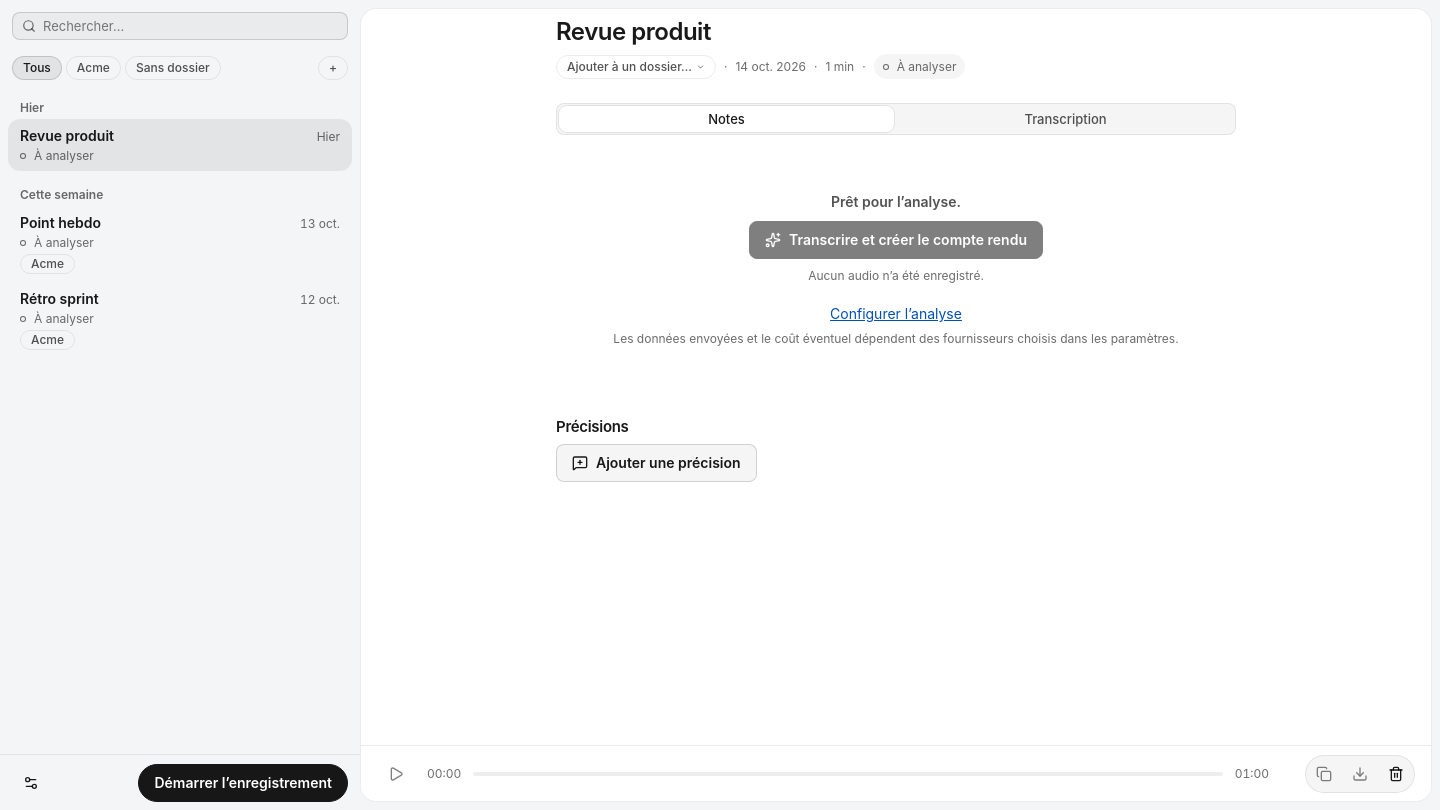
Test: After a deletion › selects the previous one when the last meeting goes
Click the option "Rétro sprint 12 oct. À analyser Acme" at (59, 298), box [8, 282, 352, 358]
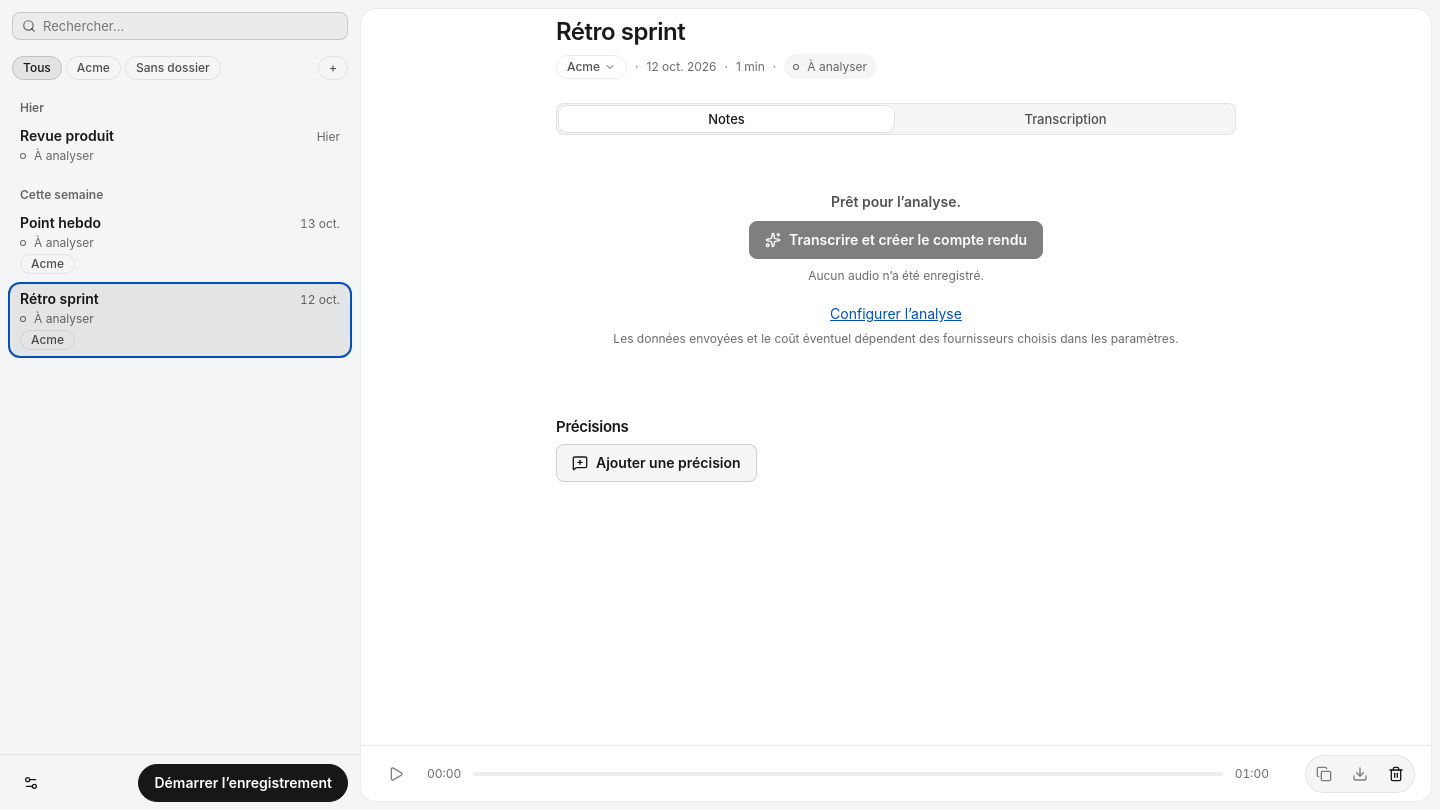
Click the button named "Supprimer la réunion" at (1396, 774), box [1380, 758, 1412, 790]
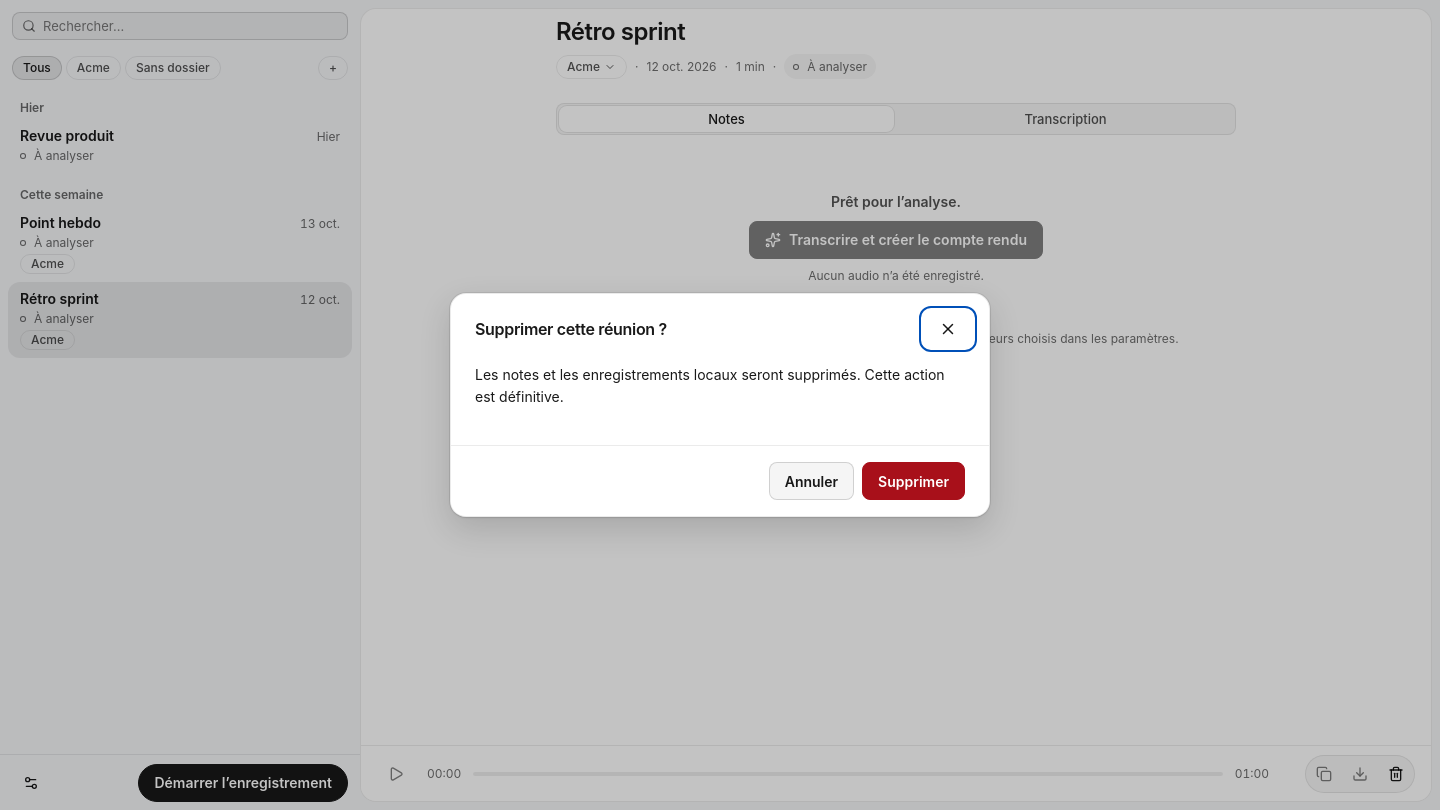
Click the button "Supprimer" at (914, 481), box [862, 462, 965, 500]
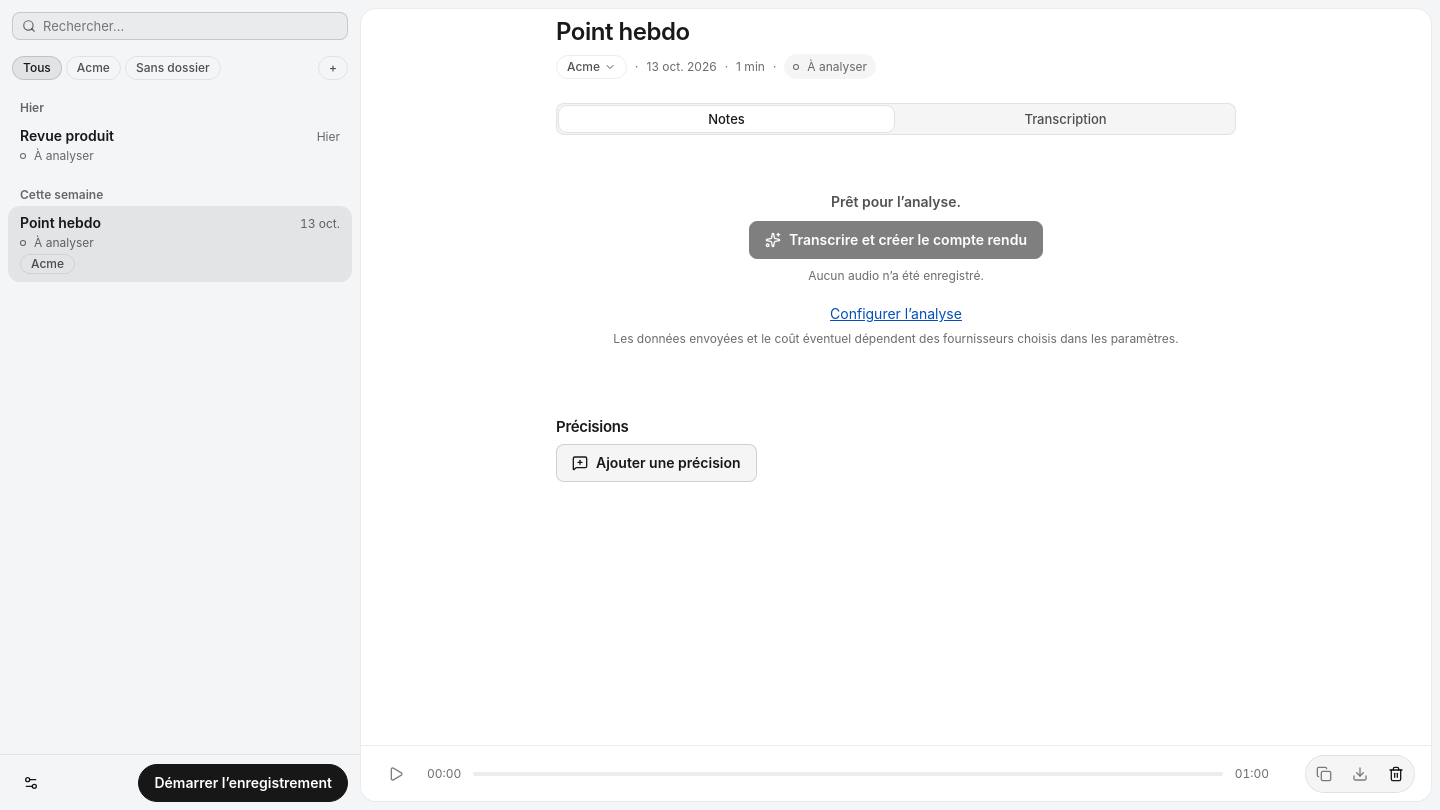
Result: the heading "Point hebdo" is shown at [556, 17, 690, 46]
